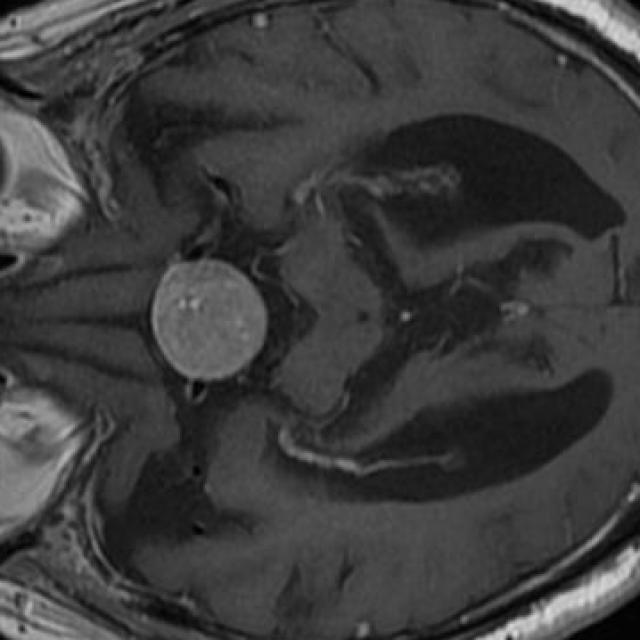pituitary: (150, 260, 269, 383)
